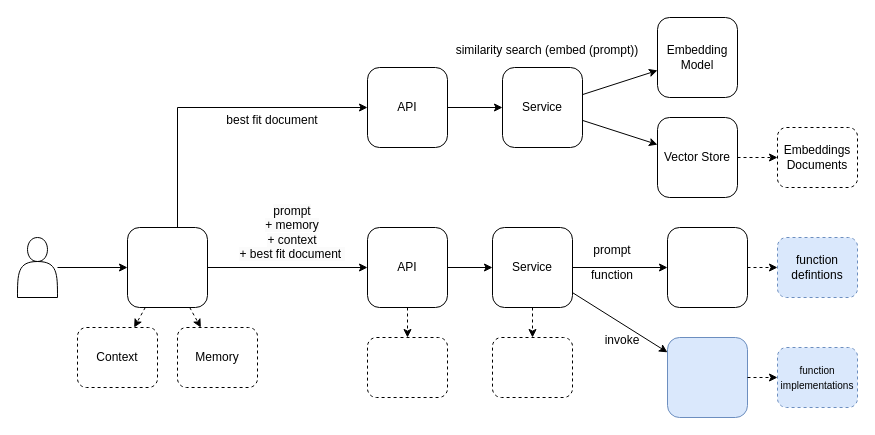
This 875x435 diagram has some shape labels left out. Here are the shapes that lost their labels. From the top down, the centre of each, then its label:
At (167,267): "User Agent".
At (707,267): "LLM".
At (407,367): "Auth".
At (532,367): "Quality".
At (707,377): "Functions".
